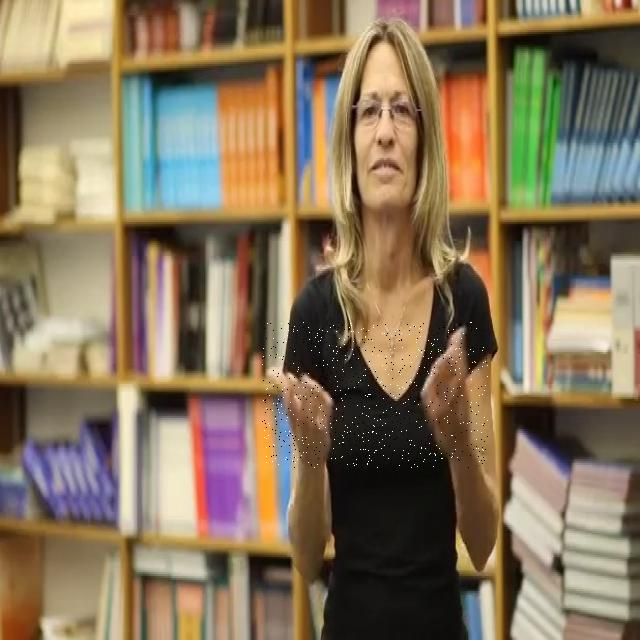what: (262, 322, 488, 468)
